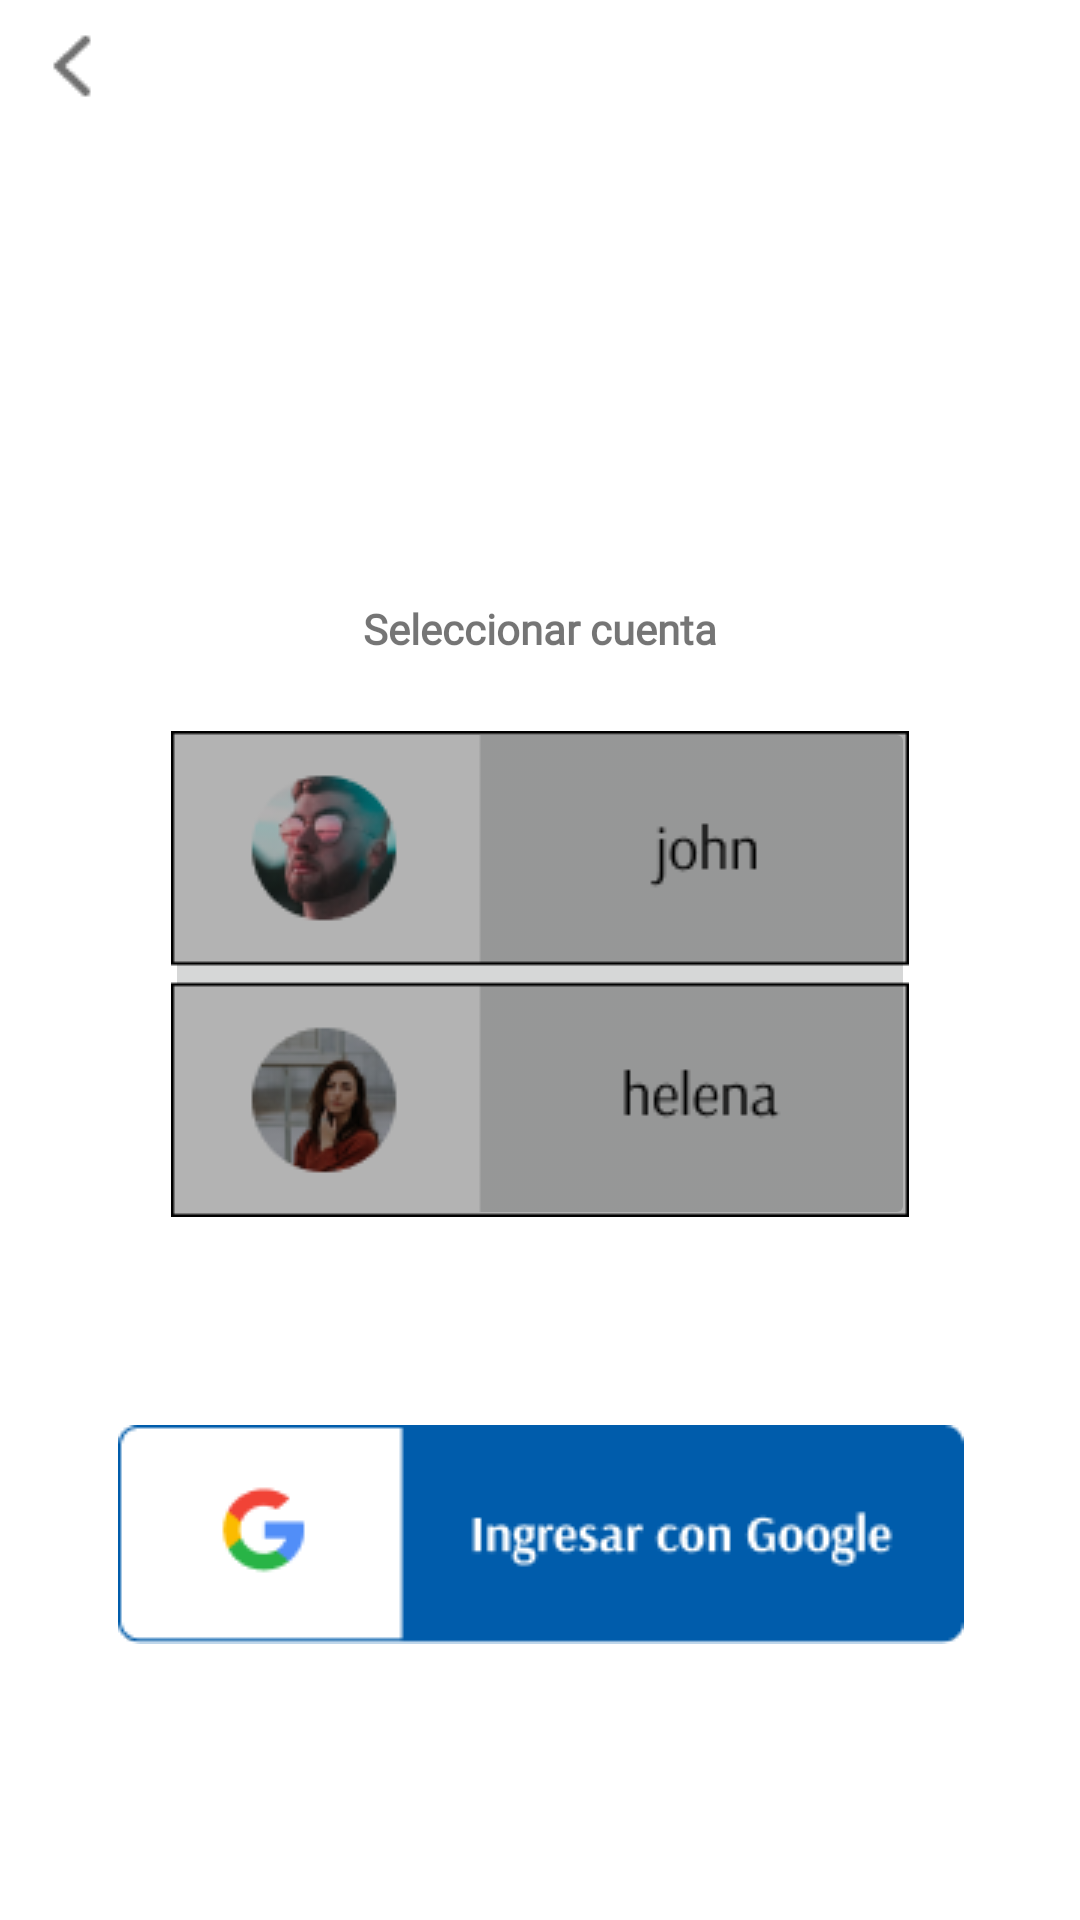

Icons on this 1080 x 1920 Android screen, each with its box as BBox(x1, y1, x2, y2):
back: BBox(53, 35, 91, 97)
